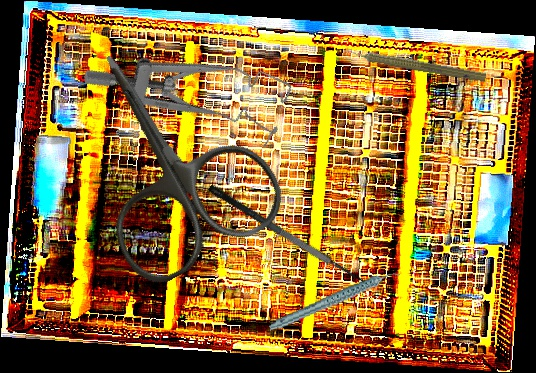Handpiece: (263, 271, 407, 332), (343, 42, 488, 85)
Iris Scissors: (34, 12, 296, 296)
Spatula Surgical: (206, 169, 387, 300)
Speculum: (78, 3, 300, 167)
